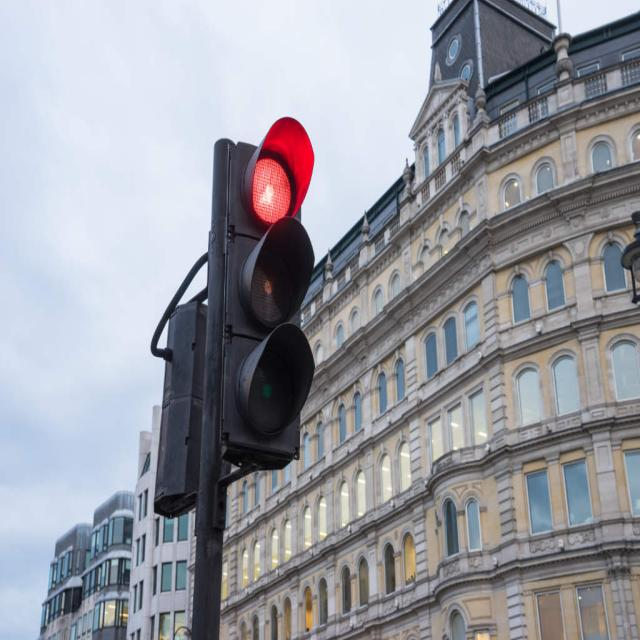red: (225, 138, 308, 454)
